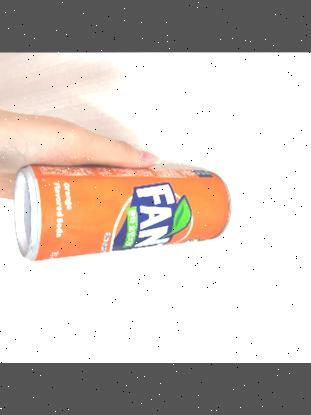Can: (9, 161, 235, 264)
